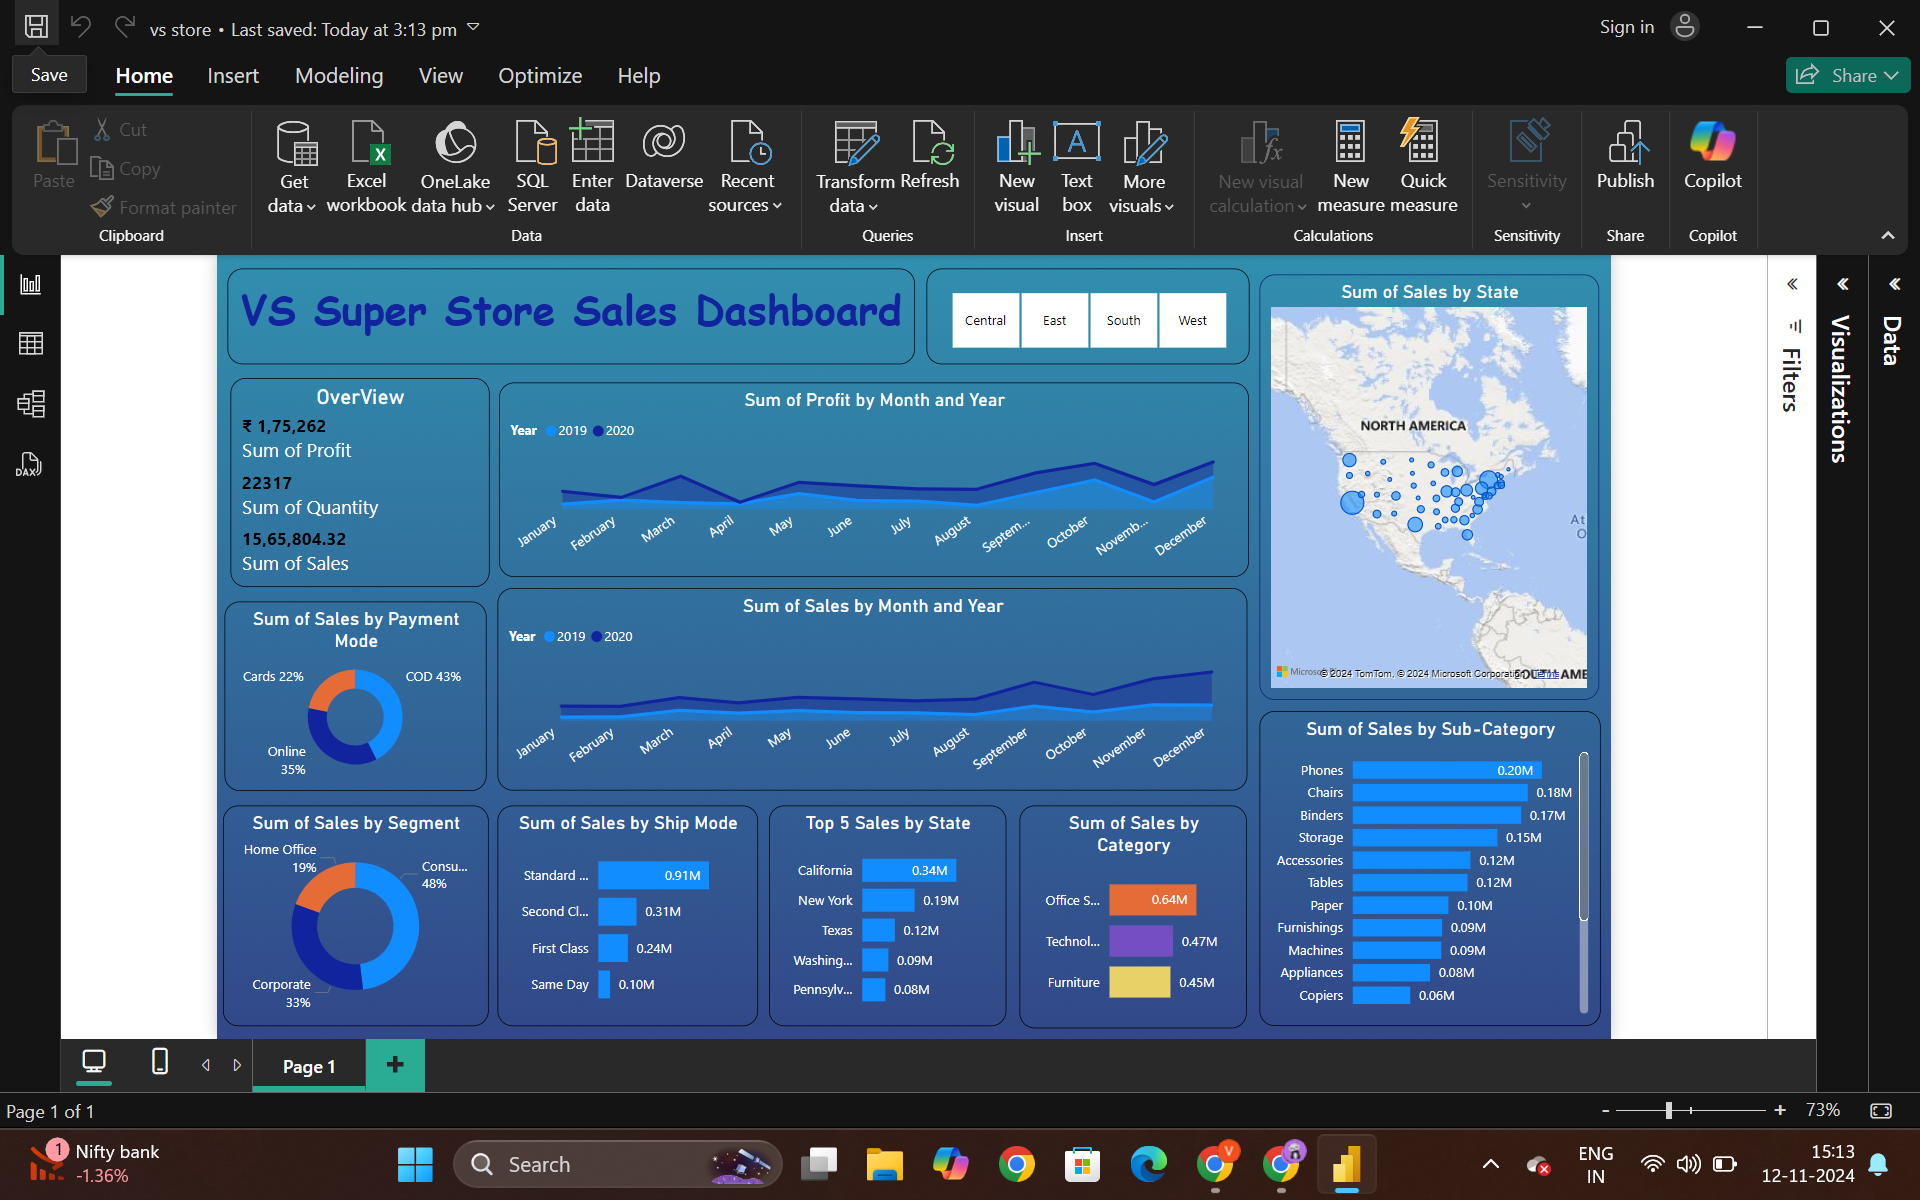

This screenshot's page, from the dashboard's own definition file:
{"tool":"powerbi","page":{"name":"Page 1","canvas":[1280,720],"ordinal":0},"visuals":[{"type":"clusteredBarChart","fields":{"Category":["SuperStore_Sales_Dataset.Category"],"Y":["Sum(SuperStore_Sales_Dataset.Sales)"]},"box":[737.4,505.7,209,204.4],"z":0},{"type":"clusteredBarChart","fields":{"Y":["Sum(SuperStore_Sales_Dataset.Sales)"],"Category":["SuperStore_Sales_Dataset.Sub-Category"]},"box":[957,419.4,313.4,289.2],"z":1000},{"type":"clusteredBarChart","fields":{"Y":["Sum(SuperStore_Sales_Dataset.Sales)"],"Category":["SuperStore_Sales_Dataset.Ship Mode"]},"box":[257.4,505.7,239.2,202.9],"z":2000},{"type":"stackedAreaChart","fields":{"Y":["Sum(SuperStore_Sales_Dataset.Sales)"],"Category":["SuperStore_Sales_Dataset.Order Date.Variation.Date Hierarchy.Month"],"Series":["SuperStore_Sales_Dataset.Order Date.Variation.Date Hierarchy.Year"]},"box":[257.4,305.9,689,186.2],"z":3000},{"type":"stackedAreaChart","fields":{"Category":["SuperStore_Sales_Dataset.Order Date.Variation.Date Hierarchy.Month"],"Series":["SuperStore_Sales_Dataset.Order Date.Variation.Date Hierarchy.Year"],"Y":["Sum(SuperStore_Sales_Dataset.Profit)"]},"box":[258.9,116.6,689,178.7],"z":4000},{"type":"donutChart","fields":{"Category":["SuperStore_Sales_Dataset.Segment"],"Y":["Sum(SuperStore_Sales_Dataset.Sales)"]},"box":[6.1,505.7,243.8,202.9],"z":5000},{"type":"donutChart","fields":{"Y":["Sum(SuperStore_Sales_Dataset.Sales)"],"Category":["SuperStore_Sales_Dataset.Payment Mode"]},"box":[7.6,318,240.8,174.1],"z":6000},{"type":"slicer","fields":{"Values":["SuperStore_Sales_Dataset.Region"]},"box":[651.1,12.1,296.8,87.8],"z":7000},{"type":"textbox","box":[9.1,12.1,631.4,87.8],"z":8000},{"type":"map","fields":{"Category":["SuperStore_Sales_Dataset.State"],"Size":["Sum(SuperStore_Sales_Dataset.Sales)"]},"box":[957,18.2,311.9,390.7],"z":10000},{"type":"clusteredBarChart","title":"Top 5 Sales by State","fields":{"Y":["Sum(SuperStore_Sales_Dataset.Sales)"],"Category":["SuperStore_Sales_Dataset.State"]},"box":[507.3,505.7,218,202.9],"z":11000},{"type":"multiRowCard","title":"OverView","fields":{"Values":["Sum(SuperStore_Sales_Dataset.Profit)","Sum(SuperStore_Sales_Dataset.Quantity)","Sum(SuperStore_Sales_Dataset.Sales)"]},"box":[12.1,113.6,237.7,192.3],"z":14001}]}

Visuals, with their boxes on the page's 1280x720 design canvas (x1, y1, x2, y2). These are canvas units, not pixel positions in the 1920x1200 screenshot, which may show the page scaled, cropped or inside an application window:
clusteredBarChart - SuperStore_Sales_Dataset.Category x Sum(SuperStore_Sales_Dataset.Sales): {"x1": 737, "y1": 506, "x2": 946, "y2": 710}
clusteredBarChart - Sum(SuperStore_Sales_Dataset.Sales) x SuperStore_Sales_Dataset.Sub-Category: {"x1": 957, "y1": 419, "x2": 1270, "y2": 709}
clusteredBarChart - Sum(SuperStore_Sales_Dataset.Sales) x SuperStore_Sales_Dataset.Ship Mode: {"x1": 257, "y1": 506, "x2": 497, "y2": 709}
stackedAreaChart - Sum(SuperStore_Sales_Dataset.Sales) x SuperStore_Sales_Dataset.Order Date.Variation.Date Hierarchy.Month: {"x1": 257, "y1": 306, "x2": 946, "y2": 492}
stackedAreaChart - SuperStore_Sales_Dataset.Order Date.Variation.Date Hierarchy.Month x SuperStore_Sales_Dataset.Order Date.Variation.Date Hierarchy.Year: {"x1": 259, "y1": 117, "x2": 948, "y2": 295}
donutChart - SuperStore_Sales_Dataset.Segment x Sum(SuperStore_Sales_Dataset.Sales): {"x1": 6, "y1": 506, "x2": 250, "y2": 709}
donutChart - Sum(SuperStore_Sales_Dataset.Sales) x SuperStore_Sales_Dataset.Payment Mode: {"x1": 8, "y1": 318, "x2": 248, "y2": 492}
slicer - SuperStore_Sales_Dataset.Region: {"x1": 651, "y1": 12, "x2": 948, "y2": 100}
textbox: {"x1": 9, "y1": 12, "x2": 640, "y2": 100}
map - SuperStore_Sales_Dataset.State x Sum(SuperStore_Sales_Dataset.Sales): {"x1": 957, "y1": 18, "x2": 1269, "y2": 409}
"Top 5 Sales by State" clusteredBarChart: {"x1": 507, "y1": 506, "x2": 725, "y2": 709}
"OverView" multiRowCard: {"x1": 12, "y1": 114, "x2": 250, "y2": 306}
